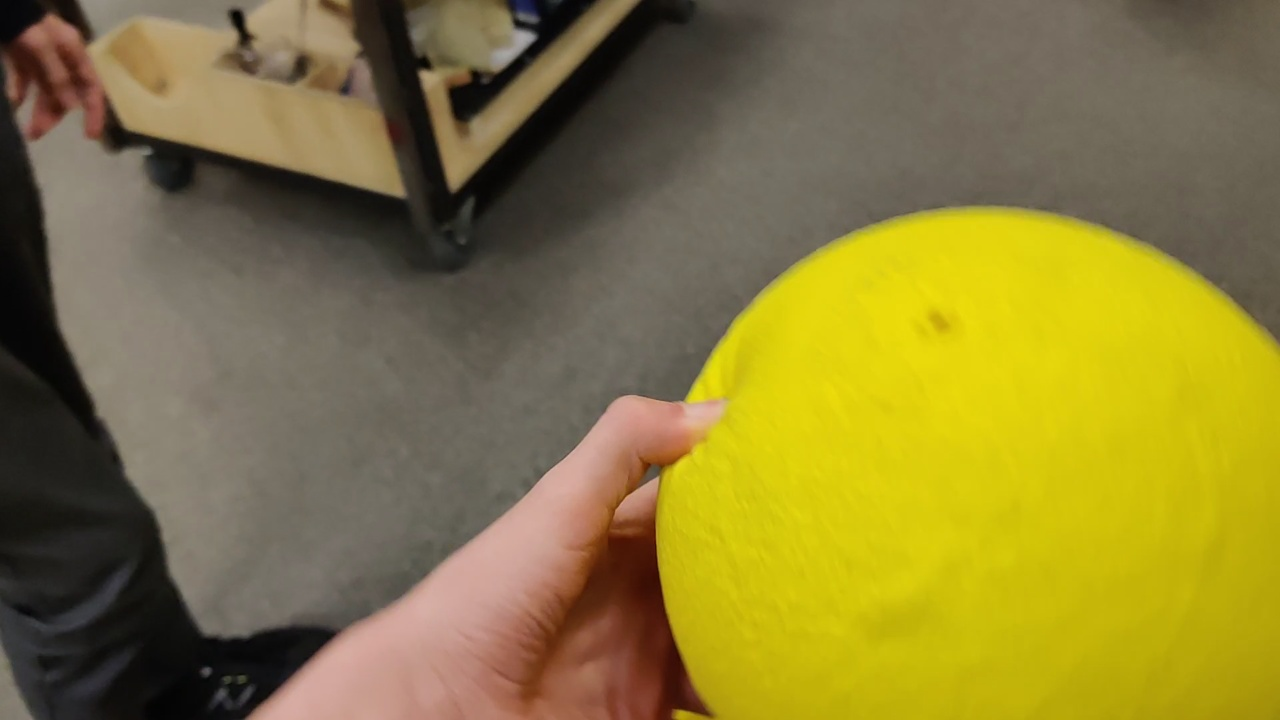Ball: (653, 207, 1280, 710)
